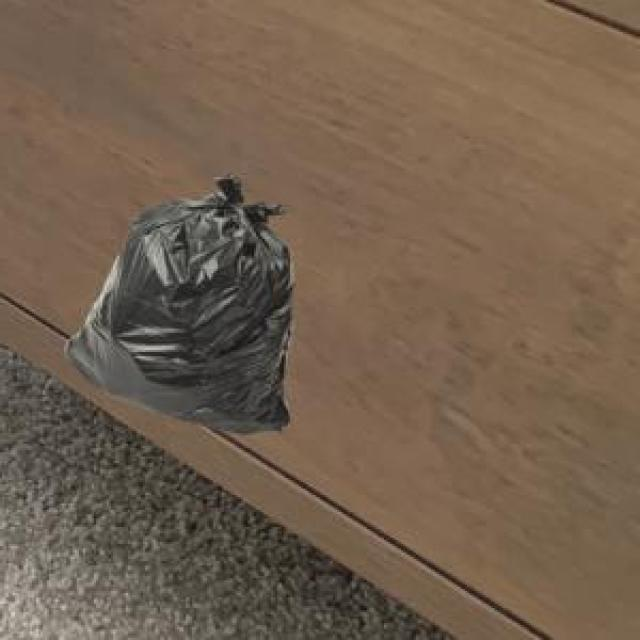Trashbag: (63, 163, 301, 436)
